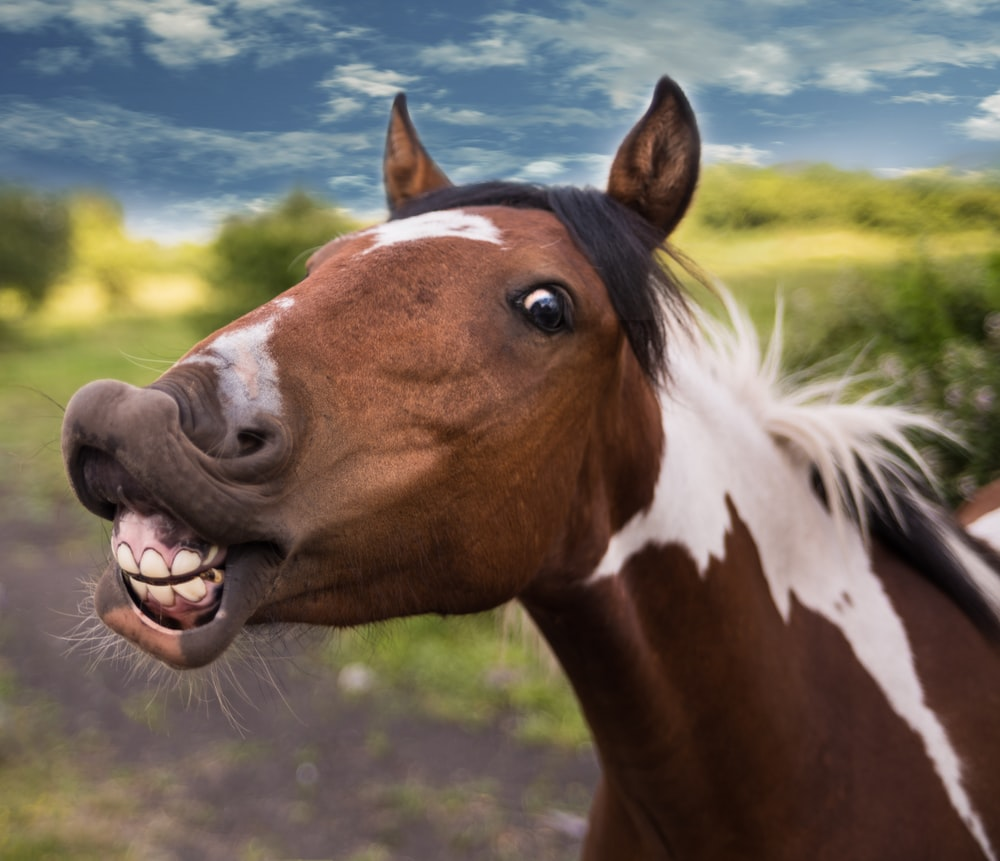Horse: (77, 88, 962, 853)
